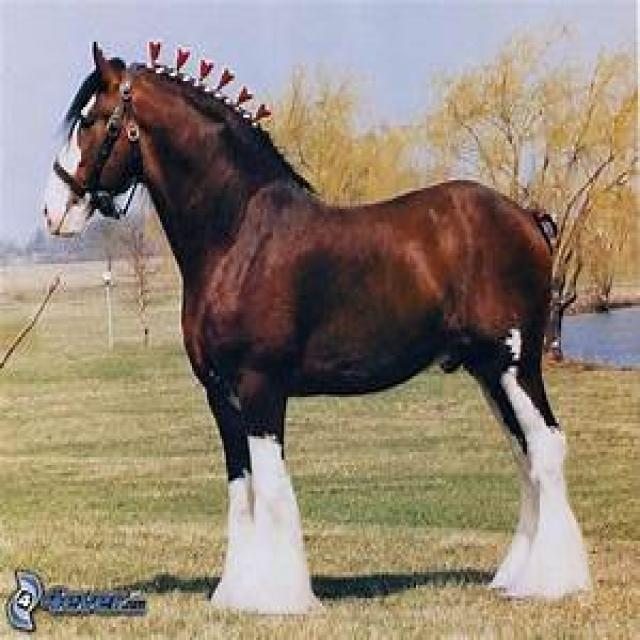horse: (49, 39, 591, 609)
